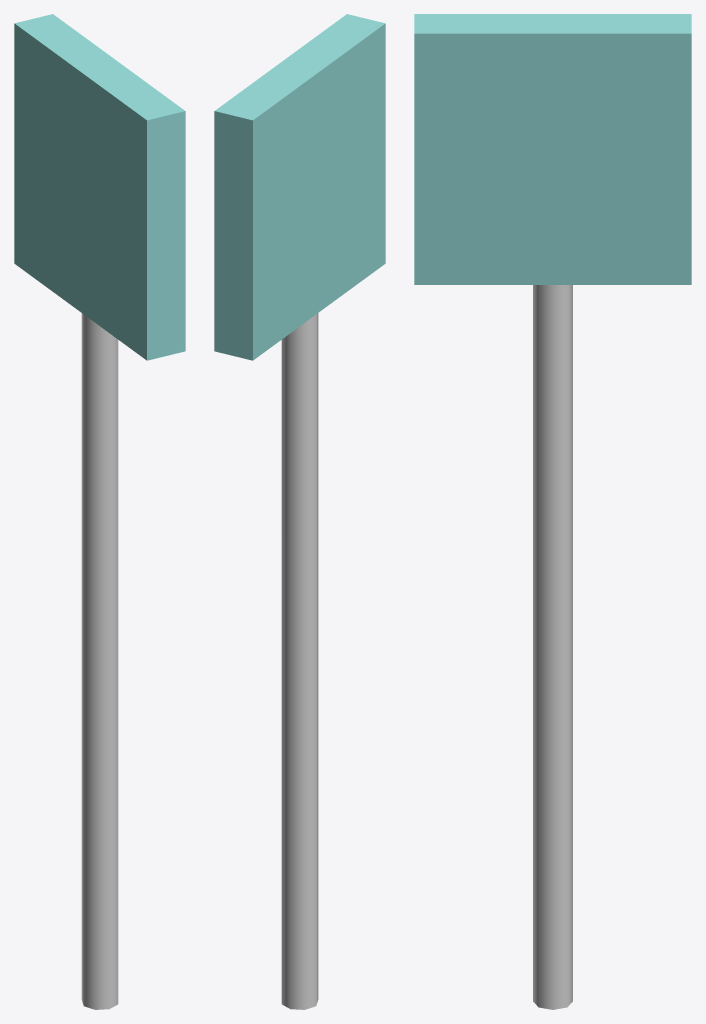
File: letrero 1.fbx
The picture shows the model from 3 angles, left to right: view 1: azimuth 30°, elevation 25°; view 2: azimuth 150°, elevation 25°; view 3: azimuth 270°, elevation 25°; orthographic projection. The views are drawn at different scales.
Parts seen in each view (by area): view 1: Cube.007, Cube.005; view 2: Cube.007, Cube.005; view 3: Cube.007, Cube.005.
Part boxes in pixels (bbox=[...]): Cube.007: bbox=[14, 14, 185, 360]; Cube.005: bbox=[81, 313, 118, 1009]; Cube.007: bbox=[214, 14, 385, 360]; Cube.005: bbox=[281, 313, 318, 1009]; Cube.007: bbox=[414, 14, 691, 284]; Cube.005: bbox=[533, 285, 572, 1009].
Bounding box in the file's own units: 4 × 92.91 × 23.88.
